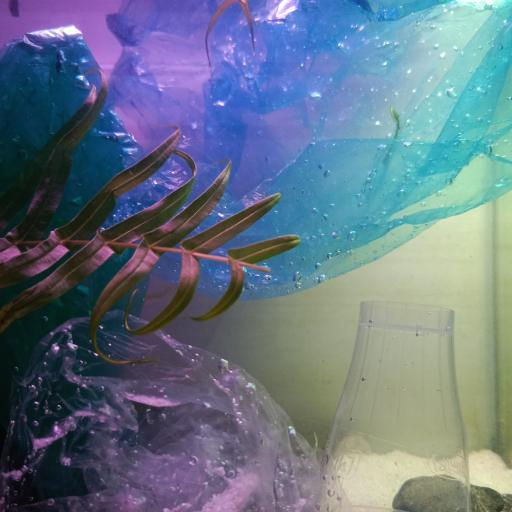plastic_bag: (67, 2, 512, 300), (0, 306, 350, 512), (0, 27, 149, 406)
plastic_cup: (325, 300, 473, 512)
